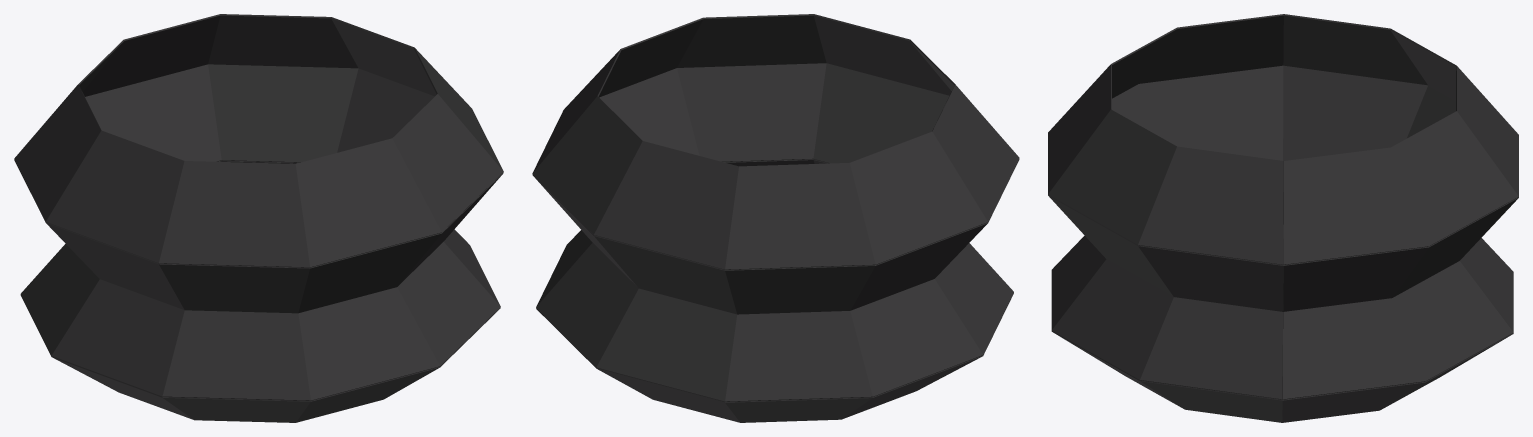
The model's file is joint.dae.
The picture shows the model from 3 angles, left to right: view 1: azimuth 30°, elevation 25°; view 2: azimuth 150°, elevation 25°; view 3: azimuth 270°, elevation 25°; orthographic projection.
Parts seen in each view (by area): view 1: joint; view 2: joint; view 3: joint.
Part boxes in pixels (x1,y1,x2,y2): joint: (14,14,503,422); joint: (532,14,1019,422); joint: (1048,14,1518,422).
Size of the model in its own units: 2.11 by 2.01 by 1.29.
1 material, 1 textured.
